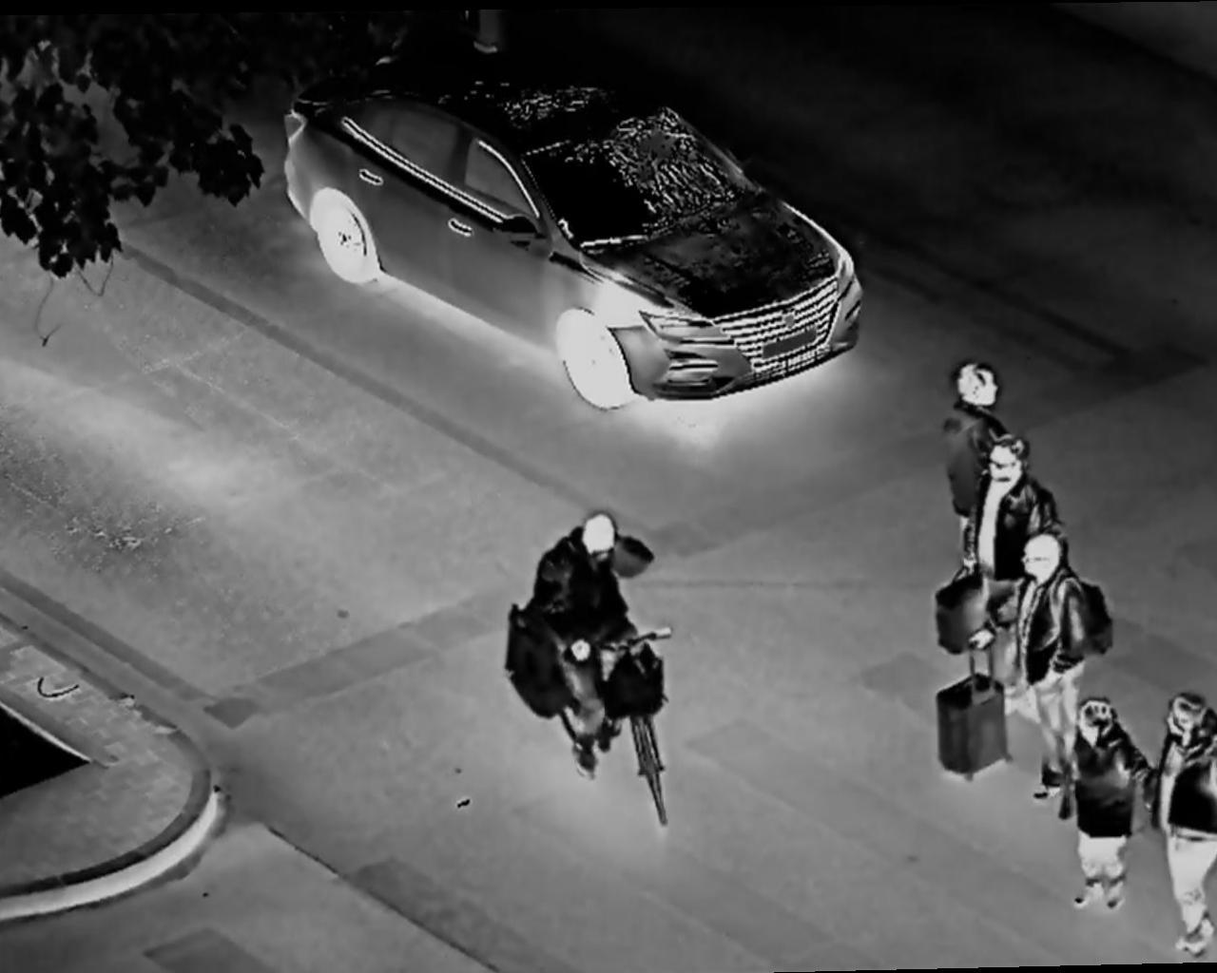person: (528, 507, 678, 807), (1059, 696, 1157, 931), (1000, 539, 1084, 801), (1152, 693, 1217, 938), (967, 436, 1027, 696), (940, 359, 1006, 524)
